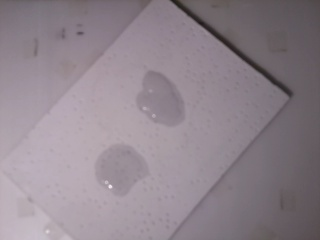Water_detected: (100, 150, 142, 192), (148, 73, 183, 112)
